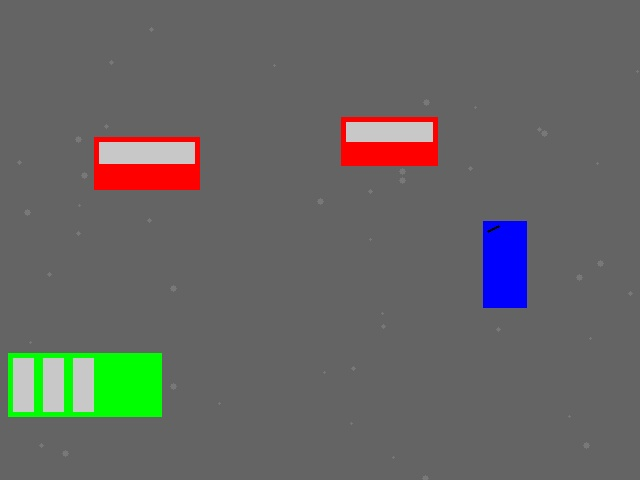bus: (8, 353, 161, 416)
car: (94, 137, 199, 189), (341, 117, 437, 165)
motorcycle: (483, 221, 526, 307)
